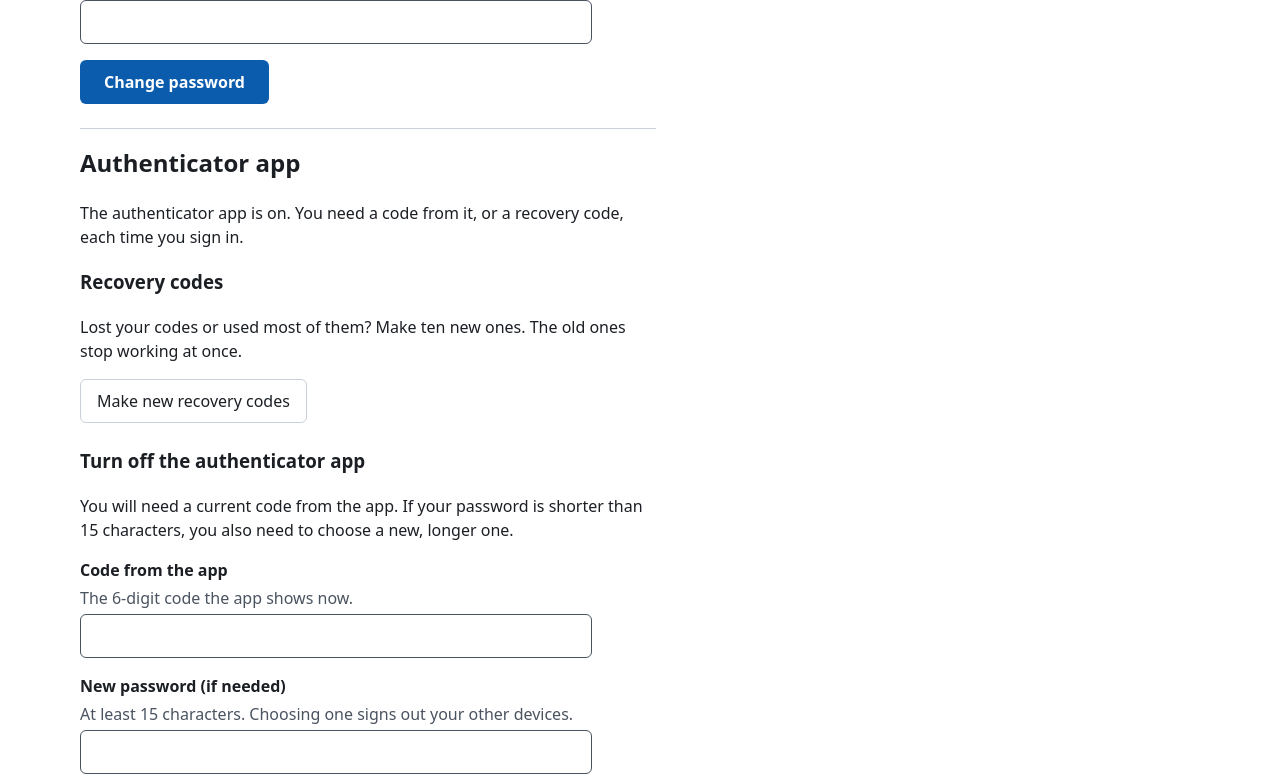
Test: with the authenticator app on › SEC-AUTH-08 new recovery codes need step-up, and replace the old ones
(page scrolled)
Check: the text "The old ones stop working at once" is shown, box [80,316,626,362]
Click the button "Make new recovery codes" at (193, 401), box [80,379,307,423]
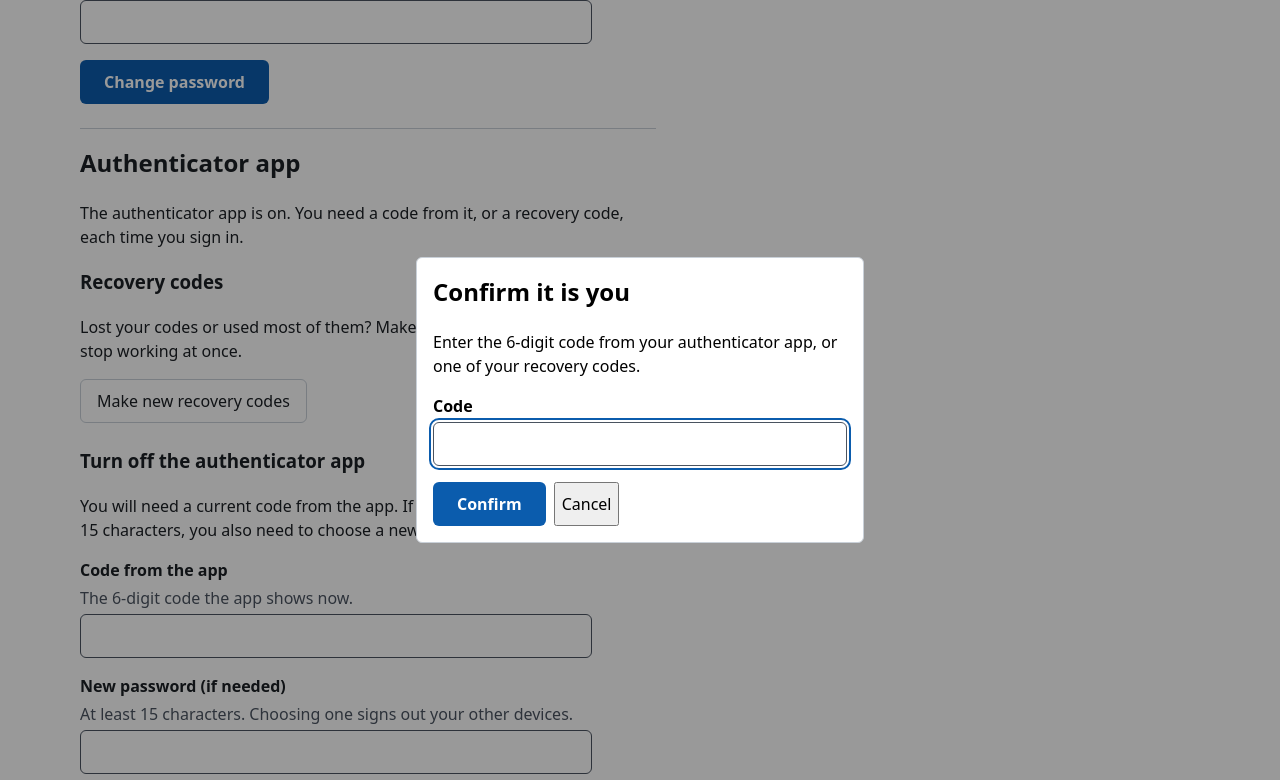
Check: the text "authenticator app" is shown, box [433,331,838,377]
Type "123456" into the field labelled "Code" at (640, 444), box [433,422,847,466]
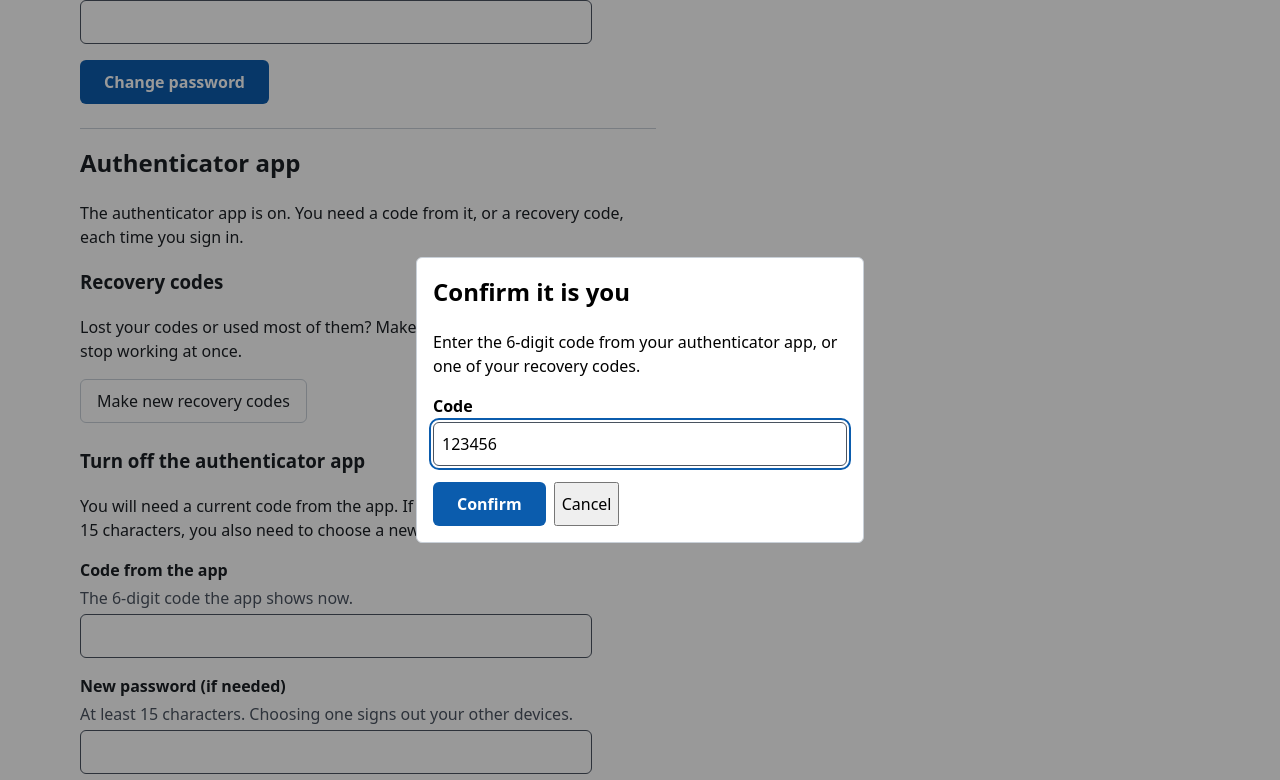
Click the button "Confirm" at (489, 504), box [433,482,546,526]
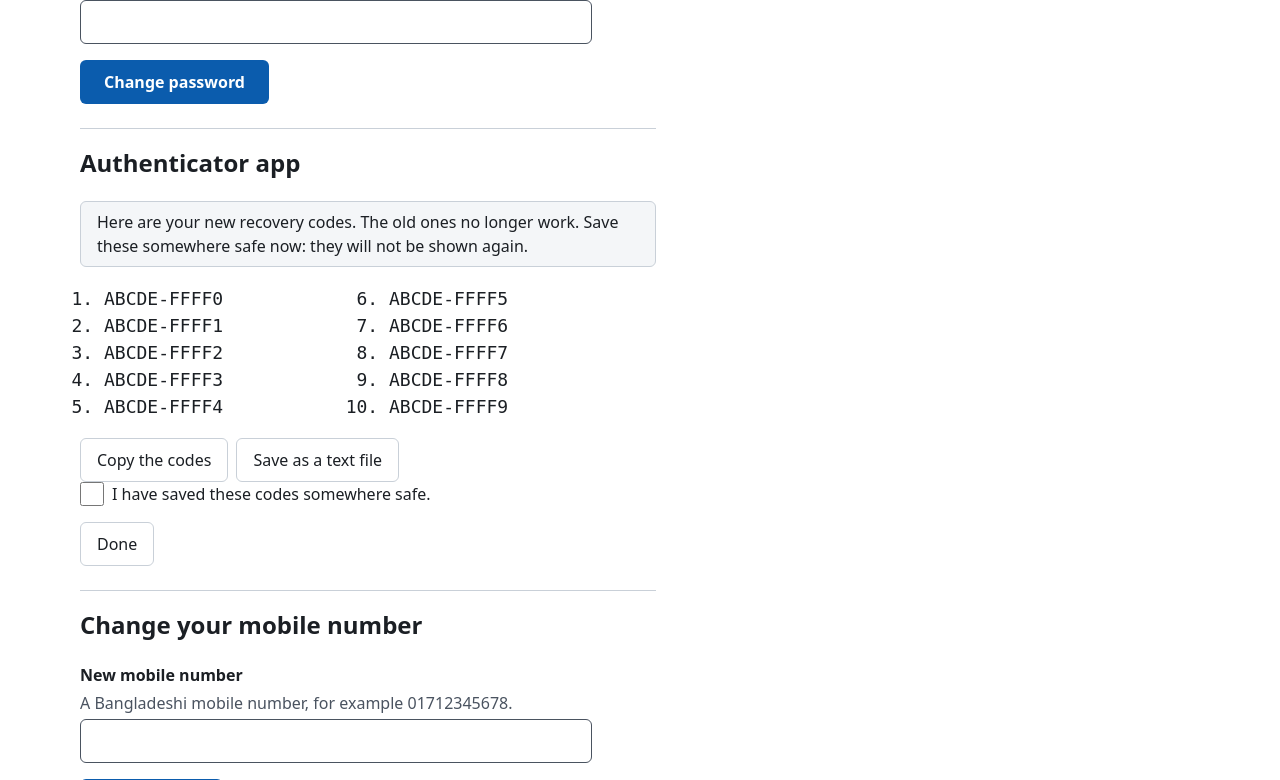
Check: the dialog is gone
Check: the text "Here are your new recovery codes. The old ones no longer work" is shown, box [97,211,618,257]
